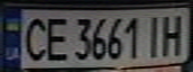1: (121, 13, 145, 60)
3: (69, 14, 93, 62)
6: (106, 14, 127, 61), (90, 14, 109, 61)
C: (18, 14, 51, 63)
E: (42, 14, 72, 62)
H: (157, 11, 190, 56)
I: (142, 11, 166, 58)
